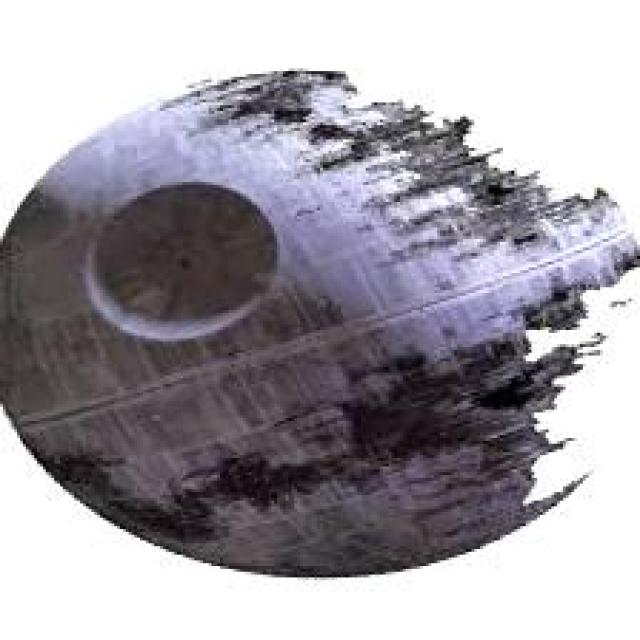deathstar: (1, 71, 637, 575)
